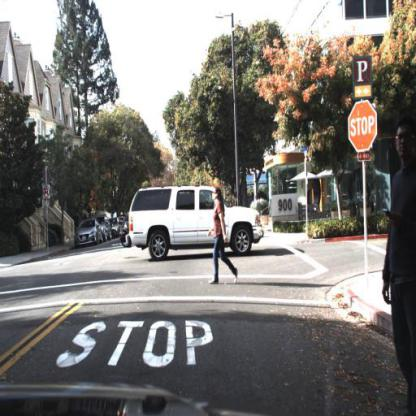car: (129, 185, 264, 263), (75, 218, 104, 243), (98, 213, 113, 243)
pedestrian: (382, 113, 416, 416), (209, 185, 233, 286)
